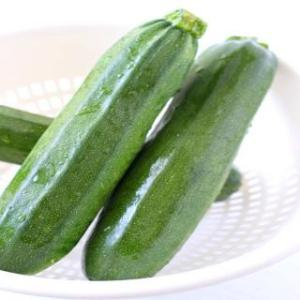zucchini: (161, 35, 275, 290)
